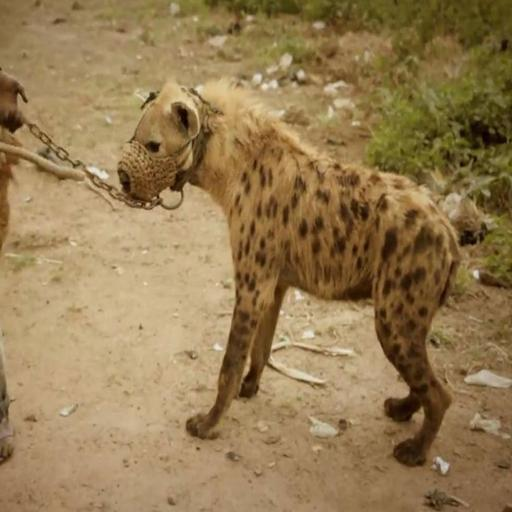Hyena: (105, 74, 462, 475)
